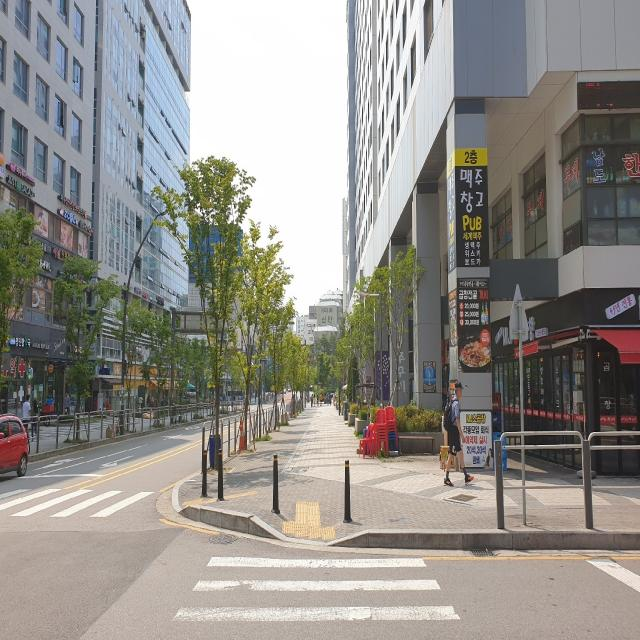횡단보도: (171, 554, 462, 624), (4, 483, 165, 529)
